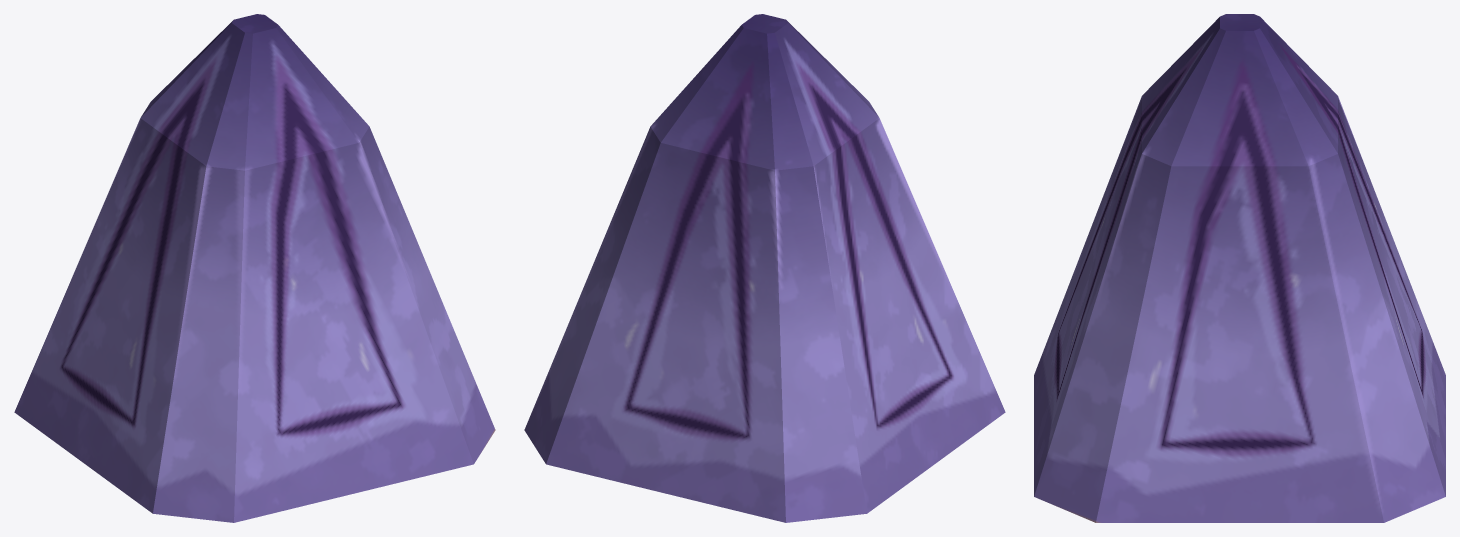
File: Rock_Small_Mov_003.fbx
The picture shows the model from 3 angles, left to right: view 1: azimuth 30°, elevation 25°; view 2: azimuth 150°, elevation 25°; view 3: azimuth 270°, elevation 25°; orthographic projection. The views are drawn at different scales.
Parts seen in each view (by area): view 1: Rock_Mov_003; view 2: Rock_Mov_003; view 3: Rock_Mov_003.
Part boxes in pixels (bbox=[...]): Rock_Mov_003: bbox=[14, 14, 495, 522]; Rock_Mov_003: bbox=[524, 14, 1005, 522]; Rock_Mov_003: bbox=[1034, 14, 1445, 522].
Bounding box in the file's own units: 160 × 177 × 160.
Materials: 1 (1 with a texture image).
